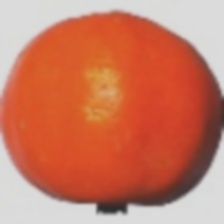tangerine: (13, 18, 187, 172)
